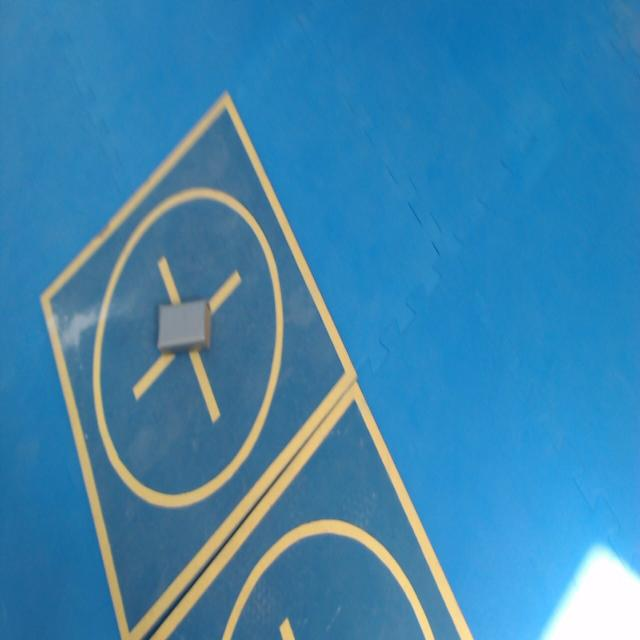lipo: (158, 299, 210, 351)
